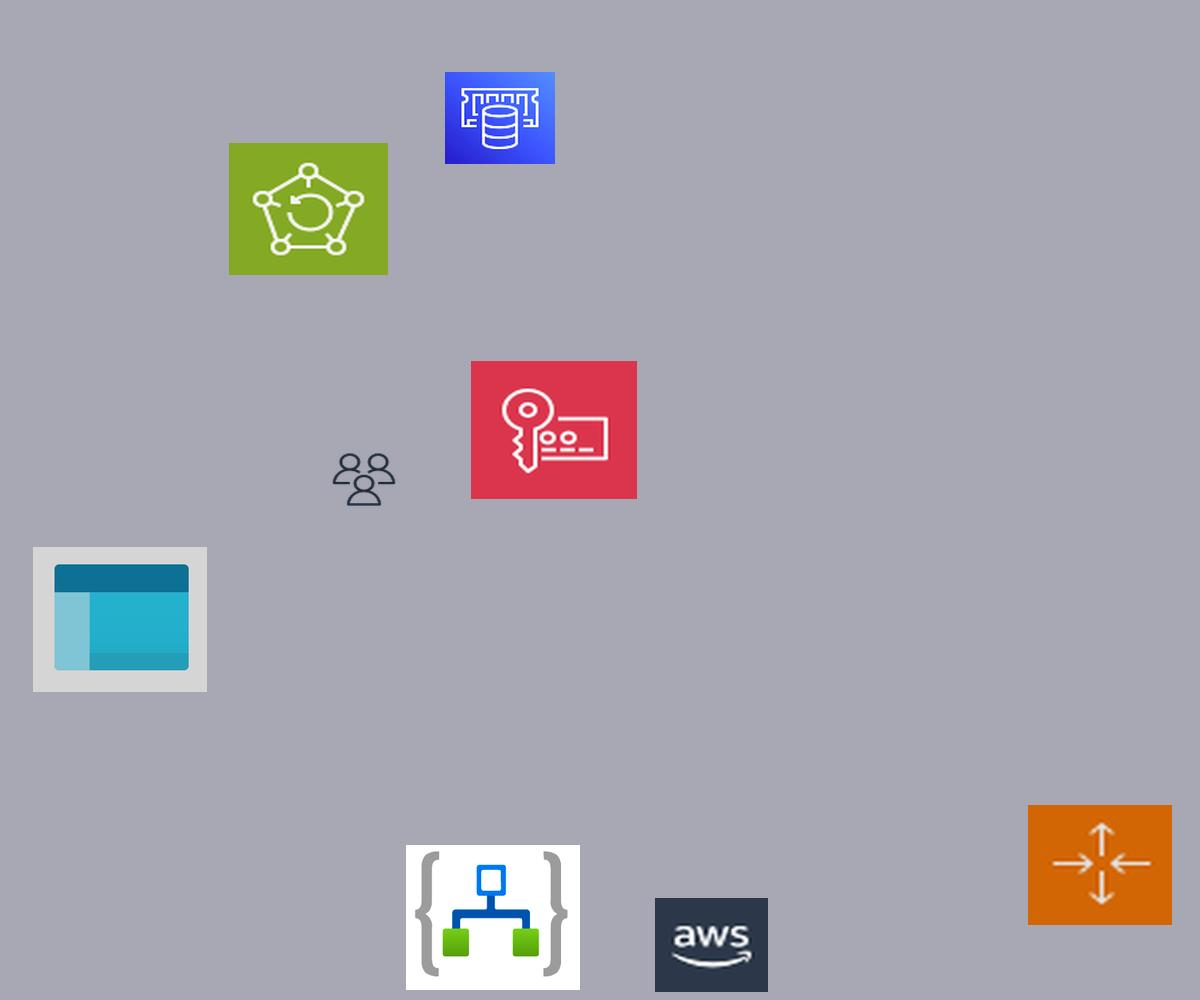AWS-Backup: (229, 143, 388, 275)
AWS-Cloud-logo: (655, 898, 768, 992)
AWS-ElastiCache: (445, 72, 555, 164)
AWS-Key-Management-Service: (471, 361, 637, 499)
AWS-Res_Users: (330, 451, 398, 508)
AWS-Scaling-group: (1028, 805, 1172, 925)
Azure_integration-204-Logic-Apps: (406, 845, 580, 990)
Azure_management-portal: (33, 547, 207, 692)
